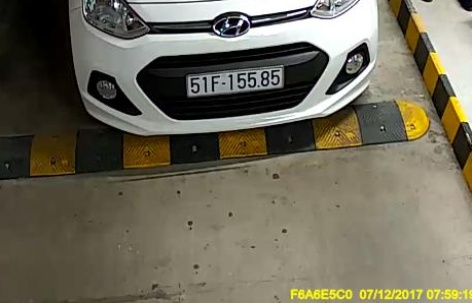plate: (183, 56, 285, 101)
